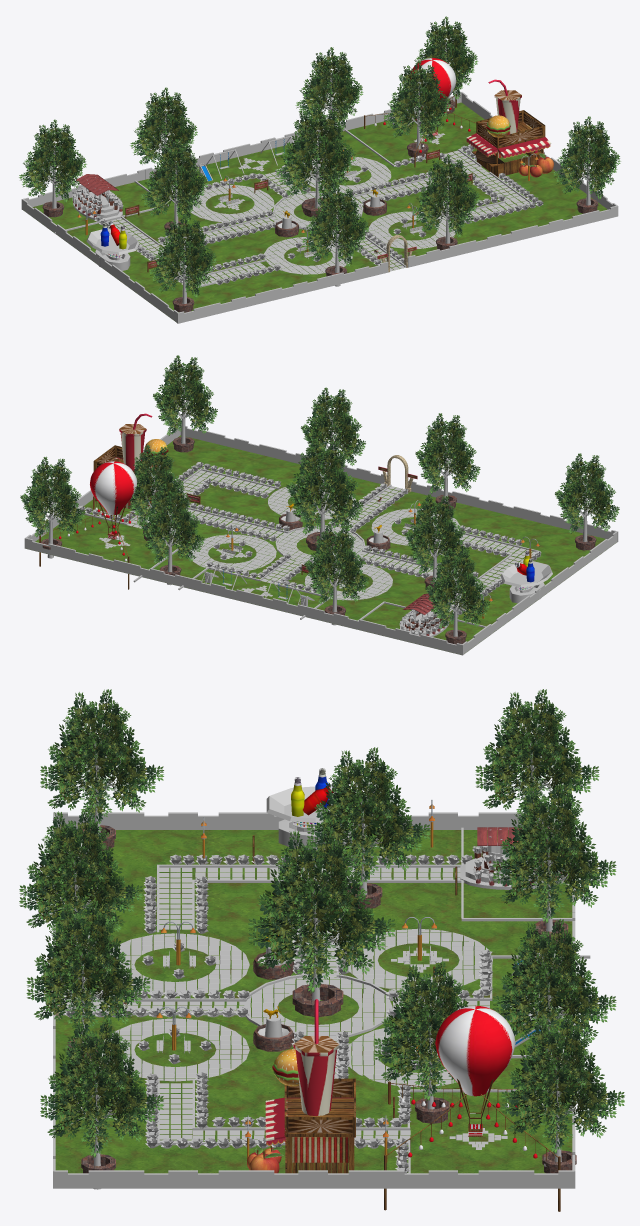
File: park set 2.fbx
The picture shows the model from 3 angles, top to bottom: view 1: azimuth 30°, elevation 25°; view 2: azimuth 150°, elevation 25°; view 3: azimuth 270°, elevation 25°; orthographic projection. The views are drawn at different scales.
Parts seen in each view (by area): view 1: balloon_shop:polySurface826, polySurface908, pCylinder189, pCylinder195, pCylinder188, pCylinder187, pCylinder191, pCylinder196, pCylinder202, pCylinder199, pCylinder203, pCylinder198 (+20 smaller); view 2: balloon_shop:polySurface826, polySurface894, pCylinder189, pCylinder193, pCylinder198, pCylinder191, pCylinder203, pCylinder196, pCylinder195, pCylinder188, pCylinder199, pCylinder187 (+19 smaller); view 3: balloon_shop:polySurface826, pCylinder189, polySurface908, pCylinder198, pCylinder195, pCylinder193, pCylinder196, pCylinder187, polySurface899, pCylinder199, pCylinder191, pCylinder203 (+24 smaller).
Part boxes in pixels (bbox=[...]): balloon_shop:polySurface826: bbox=[29, 102, 607, 319]; polySurface908: bbox=[466, 79, 553, 177]; pCylinder189: bbox=[275, 104, 356, 208]; pCylinder195: bbox=[553, 116, 620, 205]; pCylinder188: bbox=[301, 184, 369, 286]; pCylinder187: bbox=[412, 154, 480, 243]; pCylinder191: bbox=[19, 119, 86, 208]; pCylinder196: bbox=[149, 215, 216, 303]; pCylinder202: bbox=[383, 60, 451, 149]; pCylinder199: bbox=[140, 139, 208, 227]; pCylinder203: bbox=[295, 47, 363, 129]; pCylinder198: bbox=[130, 87, 197, 165]; balloon_shop:polySurface826: bbox=[35, 435, 615, 651]; polySurface894: bbox=[24, 538, 463, 655]; pCylinder189: bbox=[286, 438, 363, 539]; pCylinder193: bbox=[20, 456, 85, 558]; pCylinder198: bbox=[304, 523, 369, 625]; pCylinder191: bbox=[425, 548, 489, 636]; pCylinder203: bbox=[139, 483, 204, 585]; pCylinder196: bbox=[555, 453, 619, 541]; pCylinder195: bbox=[153, 355, 217, 443]; pCylinder188: bbox=[415, 413, 480, 501]; pCylinder199: bbox=[404, 494, 469, 582]; pCylinder187: bbox=[301, 387, 365, 465]; balloon_shop:polySurface826: bbox=[55, 830, 572, 1173]; pCylinder189: bbox=[248, 827, 395, 1001]; polySurface908: bbox=[247, 999, 355, 1173]; pCylinder198: bbox=[492, 784, 616, 931]; pCylinder195: bbox=[40, 1018, 163, 1189]; pCylinder193: bbox=[501, 1014, 624, 1161]; pCylinder196: bbox=[40, 689, 163, 835]; pCylinder187: bbox=[26, 900, 150, 1042]; polySurface899: bbox=[54, 1170, 574, 1188]; pCylinder199: bbox=[307, 747, 430, 894]; pCylinder191: bbox=[475, 689, 599, 822]; pCylinder203: bbox=[492, 919, 616, 1059].
Bounding box in the file's own units: 588 × 148 × 396.
